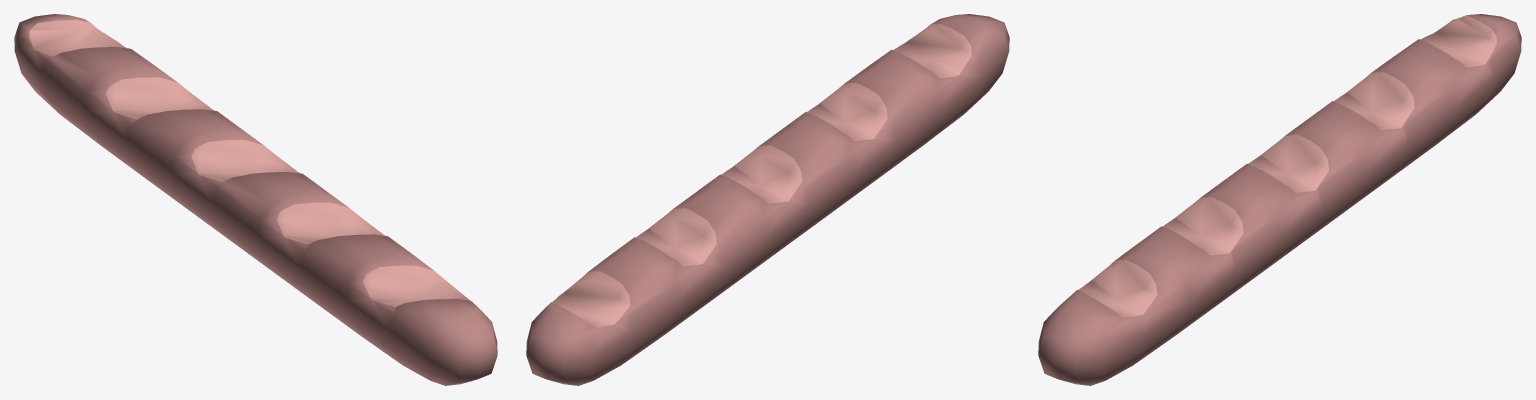
Rendered from Baguette.fbx.
3 renders of one model, left to right at view 1: azimuth 30°, elevation 25°; view 2: azimuth 150°, elevation 25°; view 3: azimuth 330°, elevation 25°, orthographic.
Visible parts, largest first — view 1: Baguette; view 2: Baguette; view 3: Baguette.
Boxes of the visible parts, x1,y1,x2,y2 form: Baguette: [14, 14, 497, 385]; Baguette: [526, 14, 1009, 385]; Baguette: [1038, 14, 1521, 385].
Bounding box in the file's own units: 52.06 × 47.98 × 483.
